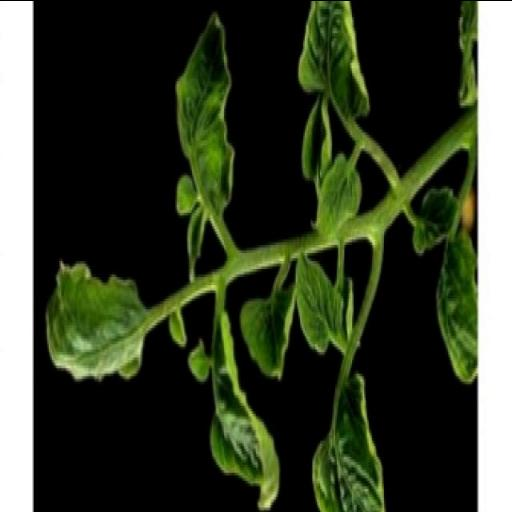Yellow Leaf Curl Virus: (32, 260, 160, 391), (163, 0, 233, 236), (199, 311, 280, 512)
